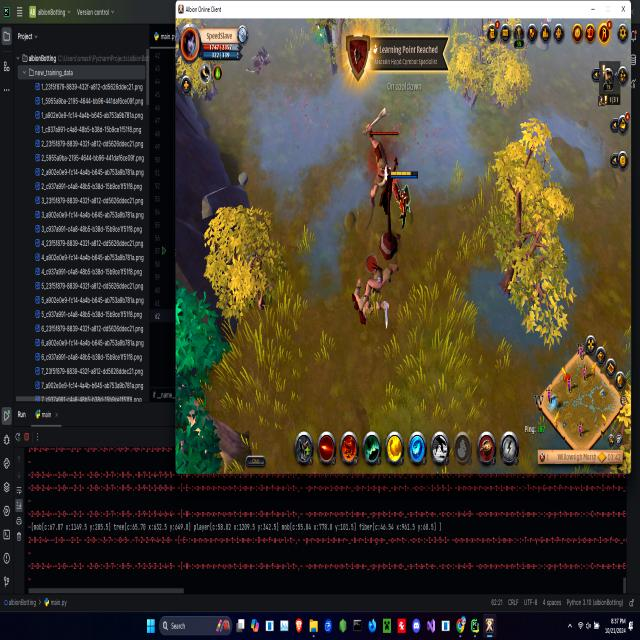hide: (312, 23, 330, 54)
ore: (363, 103, 402, 216), (435, 18, 455, 38)
red: (390, 163, 418, 230)
wisp caged: (176, 275, 256, 475)
